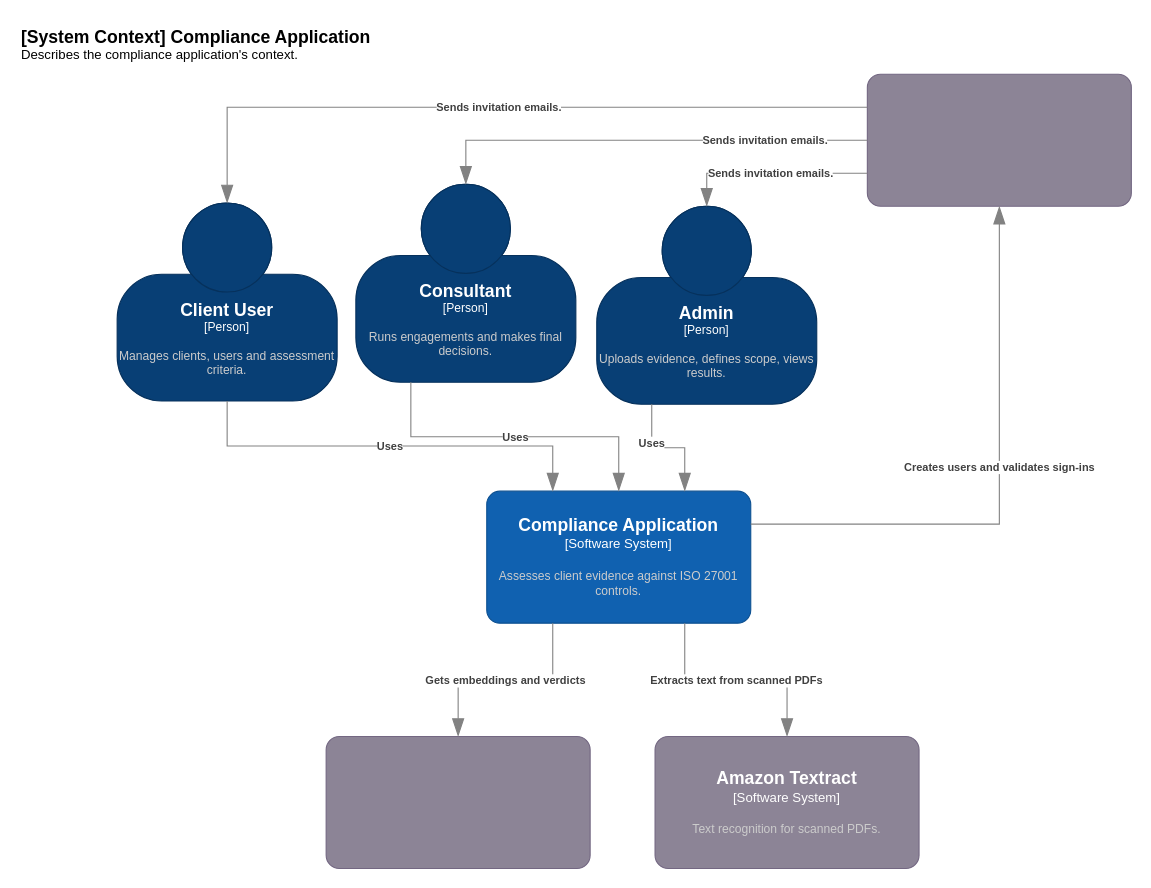
Some shapes in this 1151 by 888 pixel diagram are drawn without their labels. The shapes that lost their labels are listed below. From the top down, each one's box as (x1, y1, x2, y2) in pixels, then its label:
(866, 73, 1131, 206): Amazon Cognito [Software System] Sign-in & email invitations.
(325, 735, 590, 868): Amazon Bedrock [Software System] Language model and embeddings.
